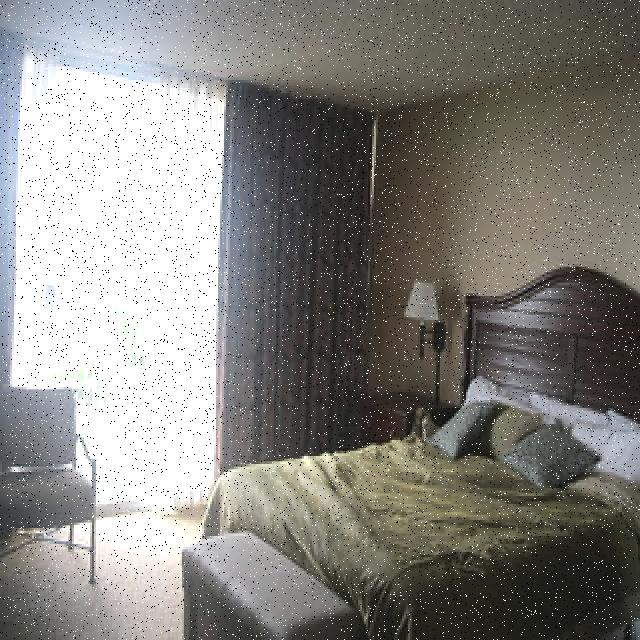bed: (229, 375, 640, 640)
